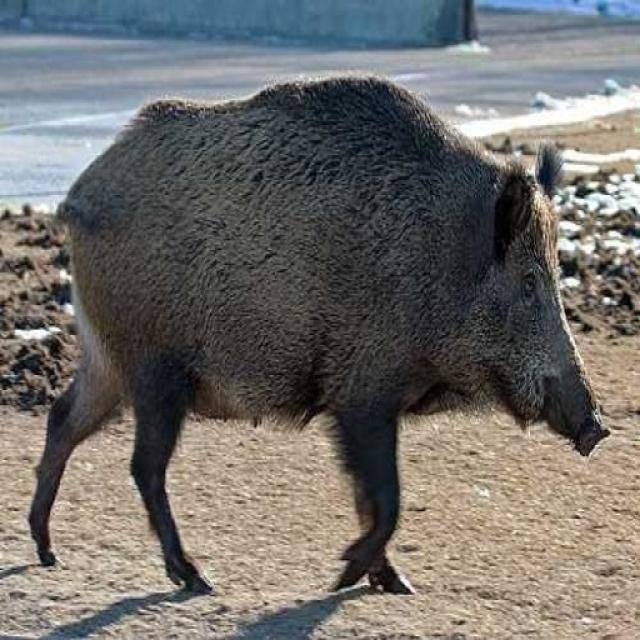pig: (10, 31, 618, 628)
